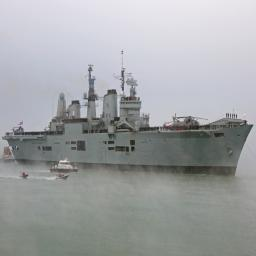Portanaves: (3, 50, 256, 180)
